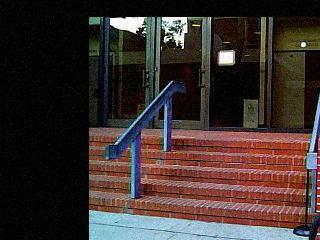Escaleras: (161, 140, 308, 224), (89, 136, 157, 209)
